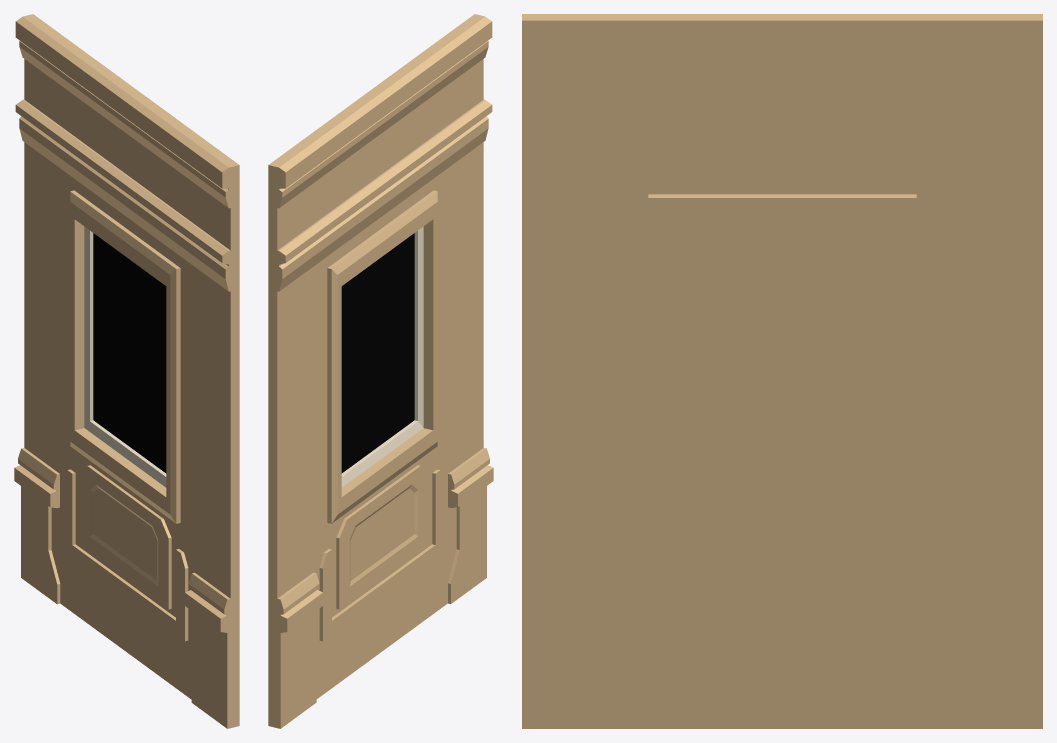
The model's file is 5_WallHole_1_C.fbx.
3 renders of one model, left to right at view 1: azimuth 30°, elevation 25°; view 2: azimuth 150°, elevation 25°; view 3: azimuth 270°, elevation 25°, orthographic. The views are drawn at different scales.
Visible parts, largest first — view 1: WallHole_1_C; view 2: WallHole_1_C; view 3: WallHole_1_C.
Boxes of the visible parts, x1=… form: WallHole_1_C: x1=14, y1=14, x2=239, y2=728; WallHole_1_C: x1=268, y1=14, x2=493, y2=728; WallHole_1_C: x1=522, y1=14, x2=1042, y2=728.
Bounding box in the file's own units: 13.96 × 200 × 300.
